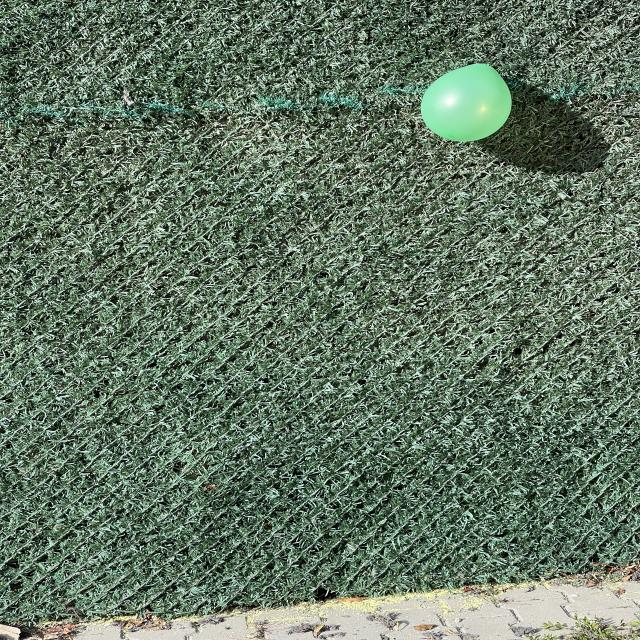balloon: (421, 64, 512, 141)
